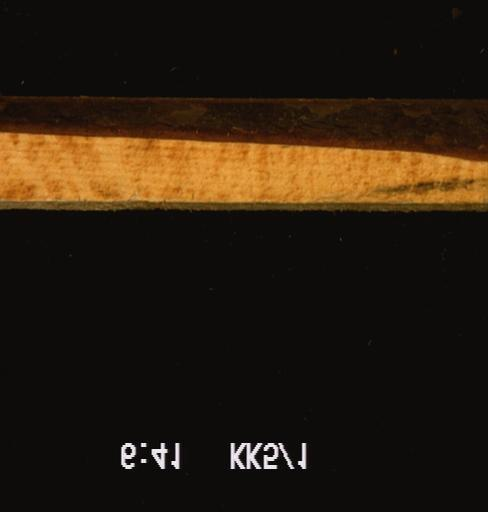wave: (0, 97, 487, 162)
